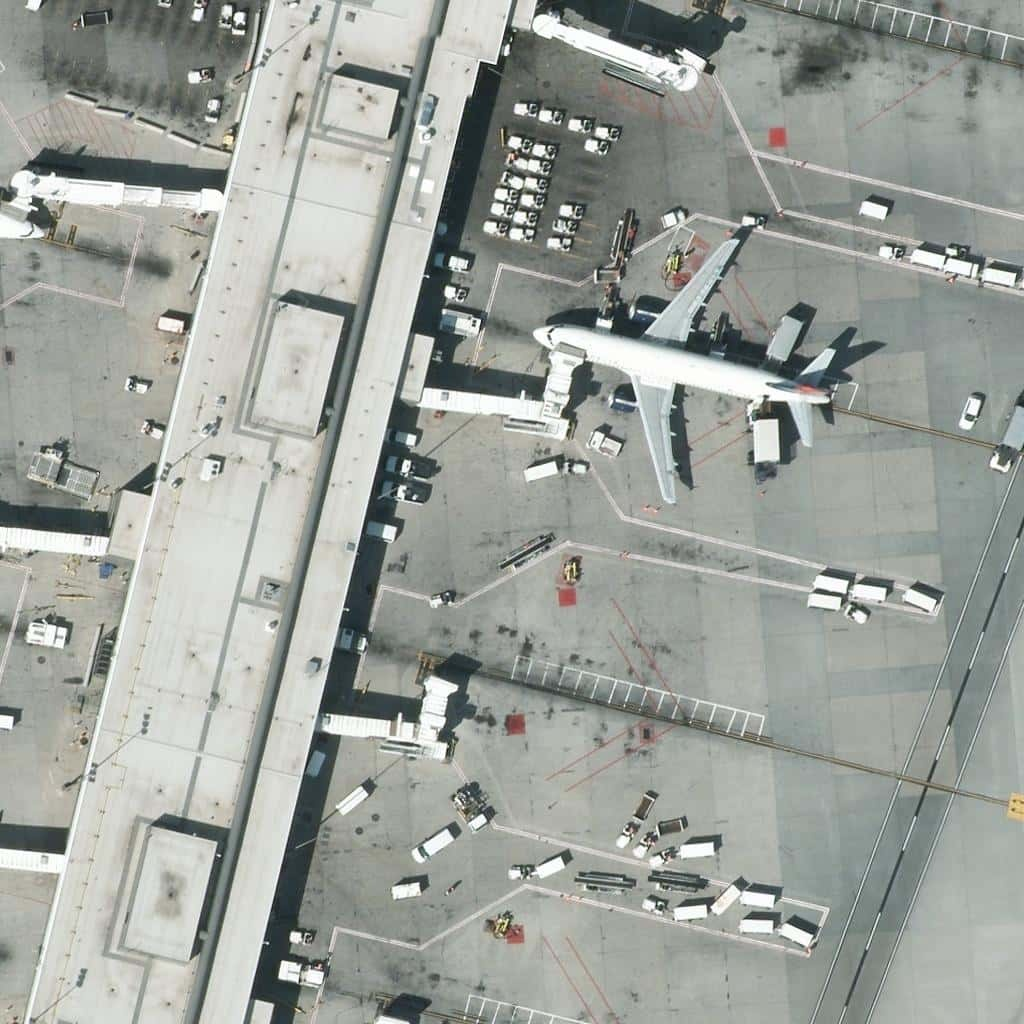plane: (540, 230, 841, 505)
